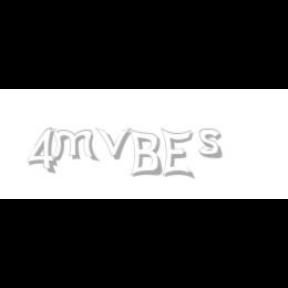4: (26, 128, 58, 174)
B: (128, 128, 162, 178)
E: (161, 128, 194, 180)
m: (48, 128, 100, 162)
s: (199, 128, 227, 160)
v: (95, 128, 135, 160)
